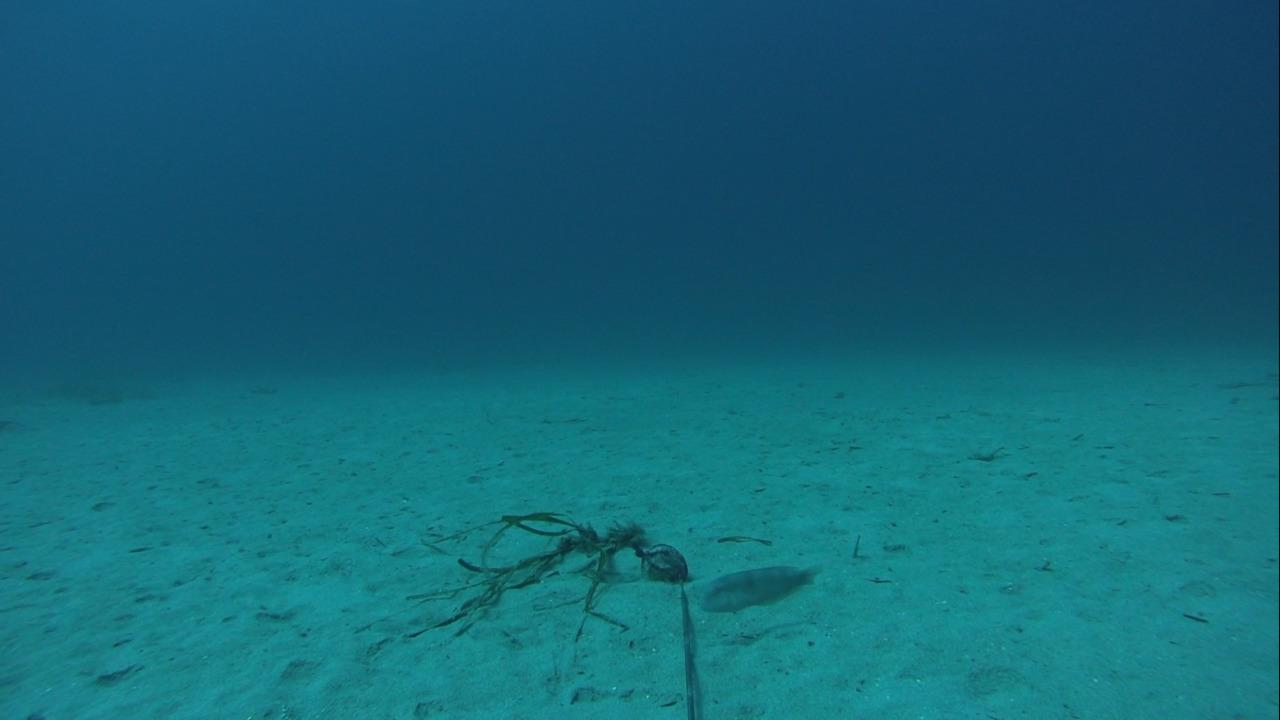raor: (694, 559, 826, 618)
